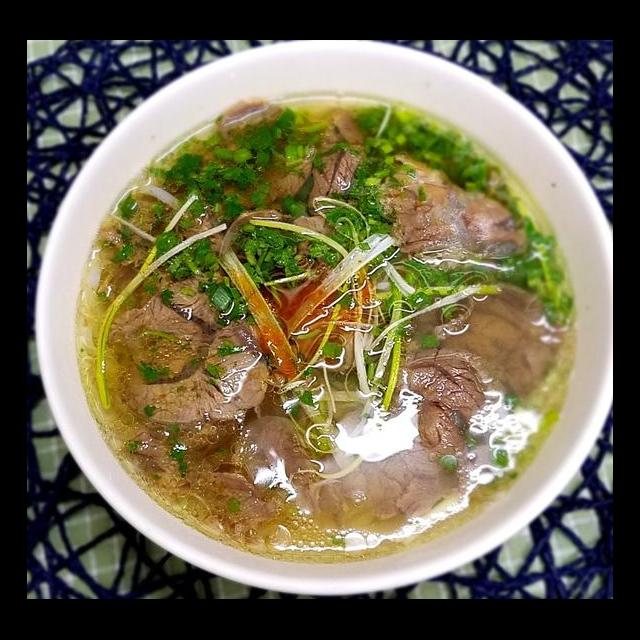thit bo: (223, 392, 508, 532), (382, 276, 559, 482), (101, 250, 282, 436), (360, 150, 527, 282), (182, 94, 318, 222), (299, 103, 374, 234)
